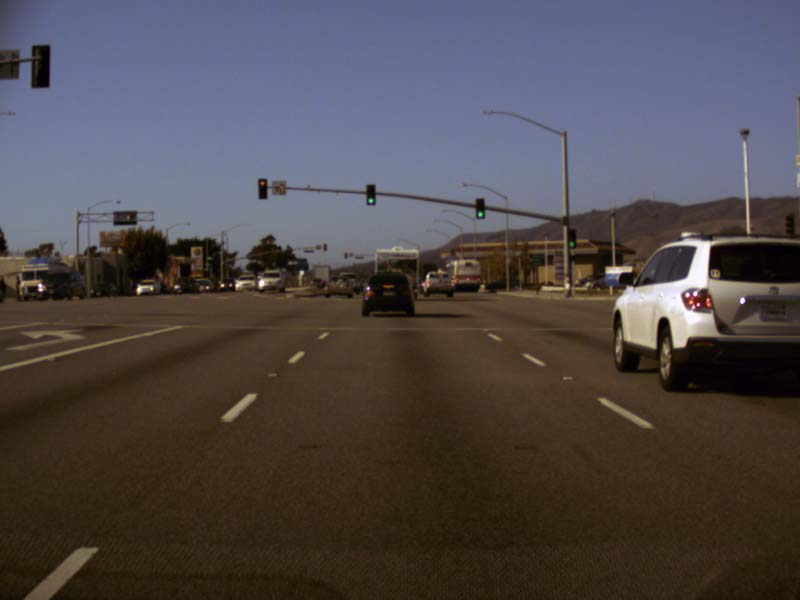Green: (475, 197, 485, 219), (365, 184, 375, 206), (567, 229, 576, 248)
Red: (257, 178, 268, 199)
